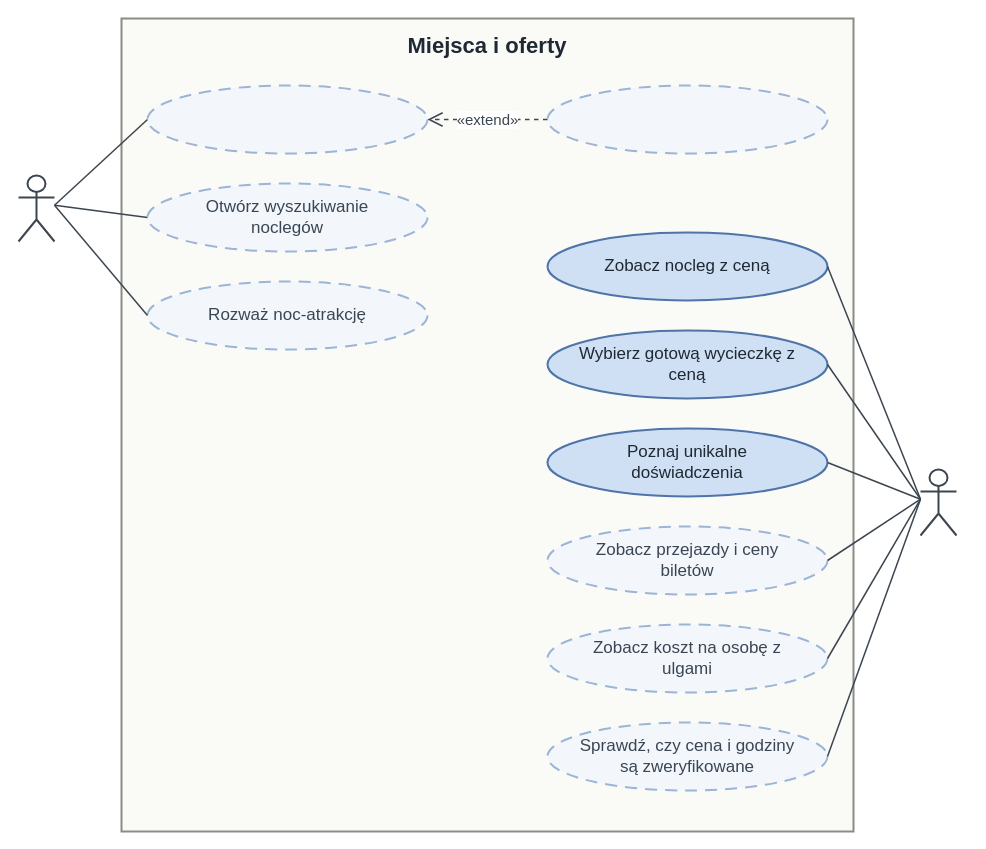
The diagram is 986 pixels wide and 849 high, and some of its shapes have lost their labels. Each missing label, with the centre of its shape:
Członek podróży: the point at 938,502
Host: the point at 36,208
Sprawdź wklejoną ofertę noclegu: the point at 687,119
Ustaw wymagania noclegowe: the point at 287,119
